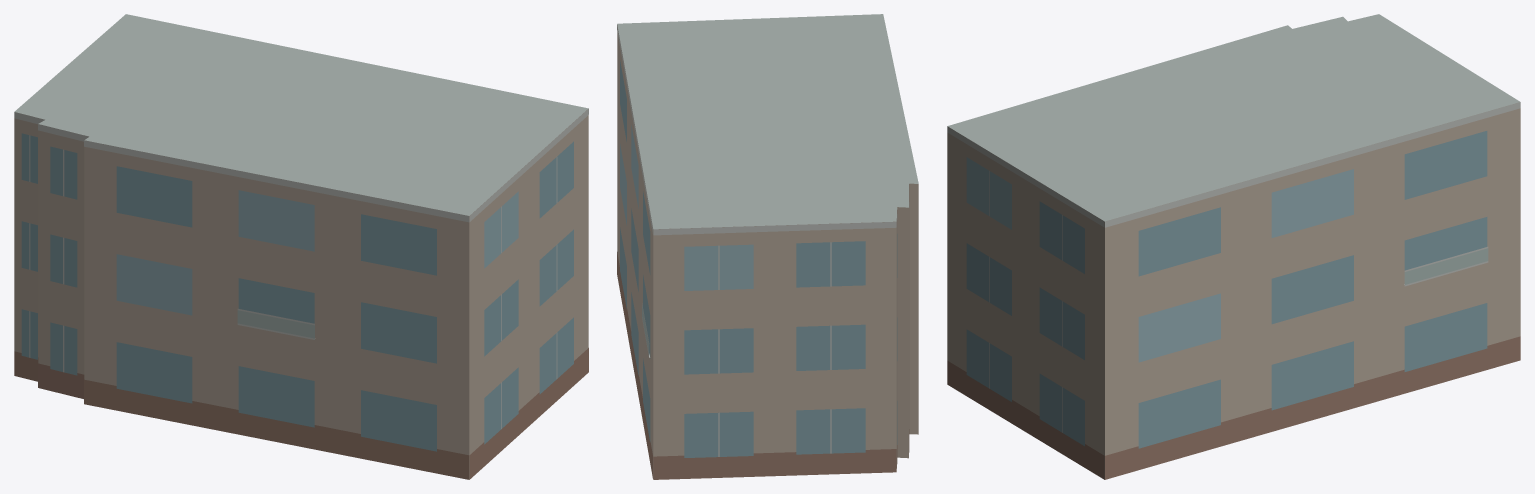
The model's file is survey-upis-33031797.glb.
3 views of the same model, side by side, from view 1: azimuth 30°, elevation 25°; view 2: azimuth 150°, elevation 25°; view 3: azimuth 270°, elevation 25° (orthographic). The views are drawn at different scales.
Parts seen in each view (by area): view 1: survey-upis-33031797.tmp; view 2: survey-upis-33031797.tmp; view 3: survey-upis-33031797.tmp.
Part boxes in pixels (x1,y1,x2,y2): survey-upis-33031797.tmp: (14, 14, 588, 479); survey-upis-33031797.tmp: (617, 14, 918, 479); survey-upis-33031797.tmp: (947, 14, 1520, 479).
Bounding box in the file's own units: 17.24 × 10 × 20.12.
